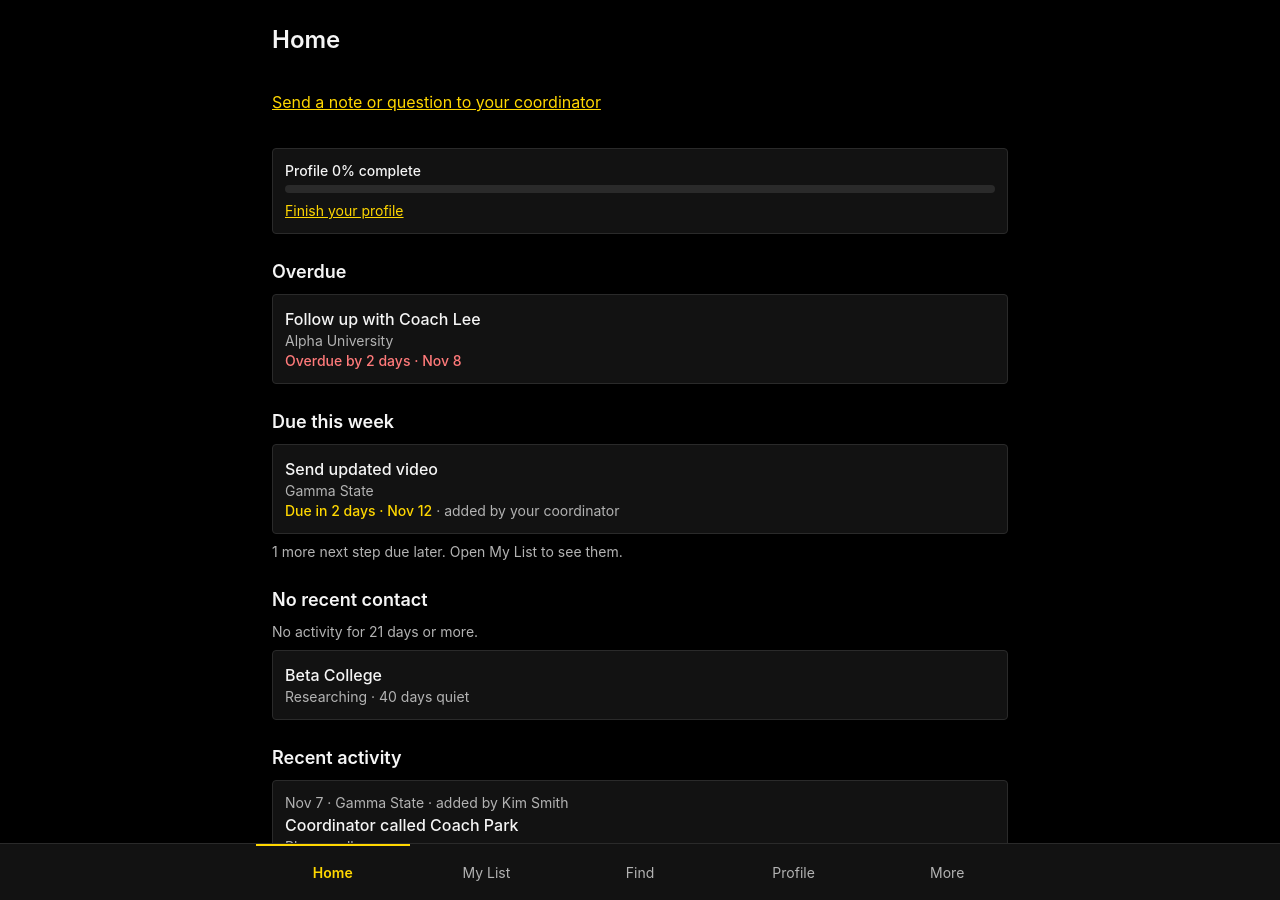
Scenario: Home › links a step to its college
This screenshot has width=1280, height=900.
Click the link "Follow up with Coach Lee" at (383, 319), box [272,294,1008,384]
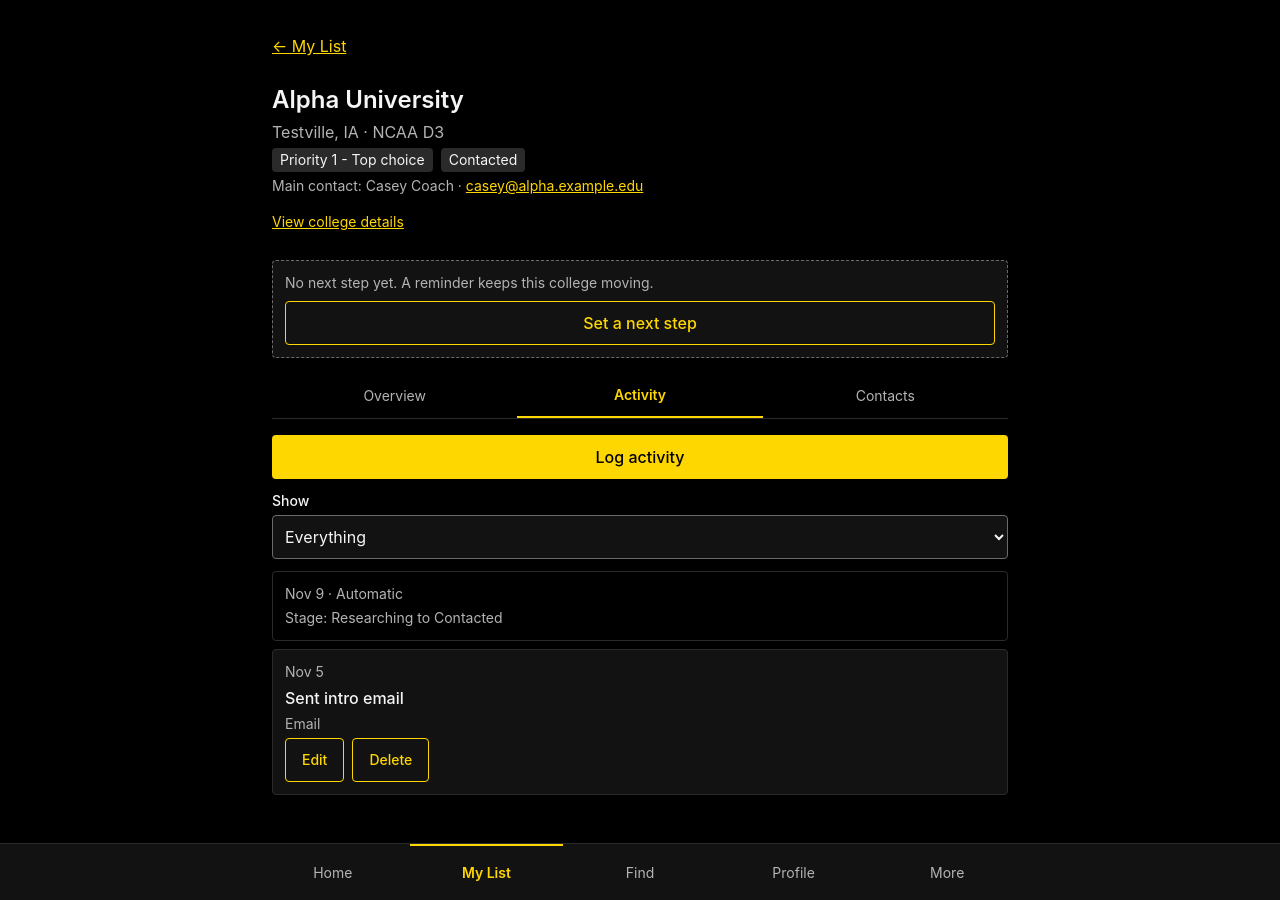
Check: the heading "Alpha University" is shown, box [272,85,464,114]
